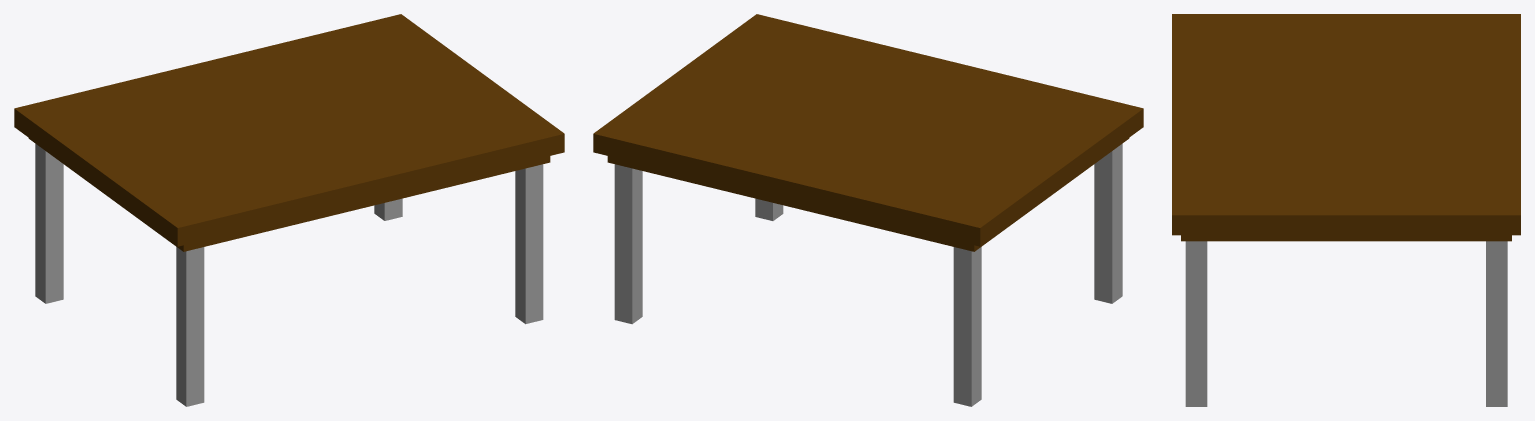
Rendered from Table.fbx.
3 views of the same model, side by side, from view 1: azimuth 30°, elevation 25°; view 2: azimuth 150°, elevation 25°; view 3: azimuth 270°, elevation 25° (orthographic). The views are drawn at different scales.
Parts seen in each view (by area): view 1: pCube10, pCube9, pCube6, pCube8, pCube7; view 2: pCube10, pCube8, pCube7, pCube9, pCube6; view 3: pCube10, pCube6, pCube7.
Part boxes in pixels (x1,y1,x2,y2): pCube10: [14, 14, 564, 251]; pCube9: [176, 247, 204, 406]; pCube6: [515, 164, 543, 324]; pCube8: [35, 143, 63, 303]; pCube7: [374, 198, 402, 220]; pCube10: [593, 14, 1143, 251]; pCube8: [953, 247, 981, 406]; pCube7: [614, 164, 642, 324]; pCube9: [1094, 143, 1122, 303]; pCube6: [755, 198, 783, 220]; pCube10: [1172, 14, 1520, 241]; pCube6: [1185, 241, 1207, 406]; pCube7: [1486, 241, 1507, 406].
Size of the model in its own units: 21.73 by 10.04 by 15.91.
